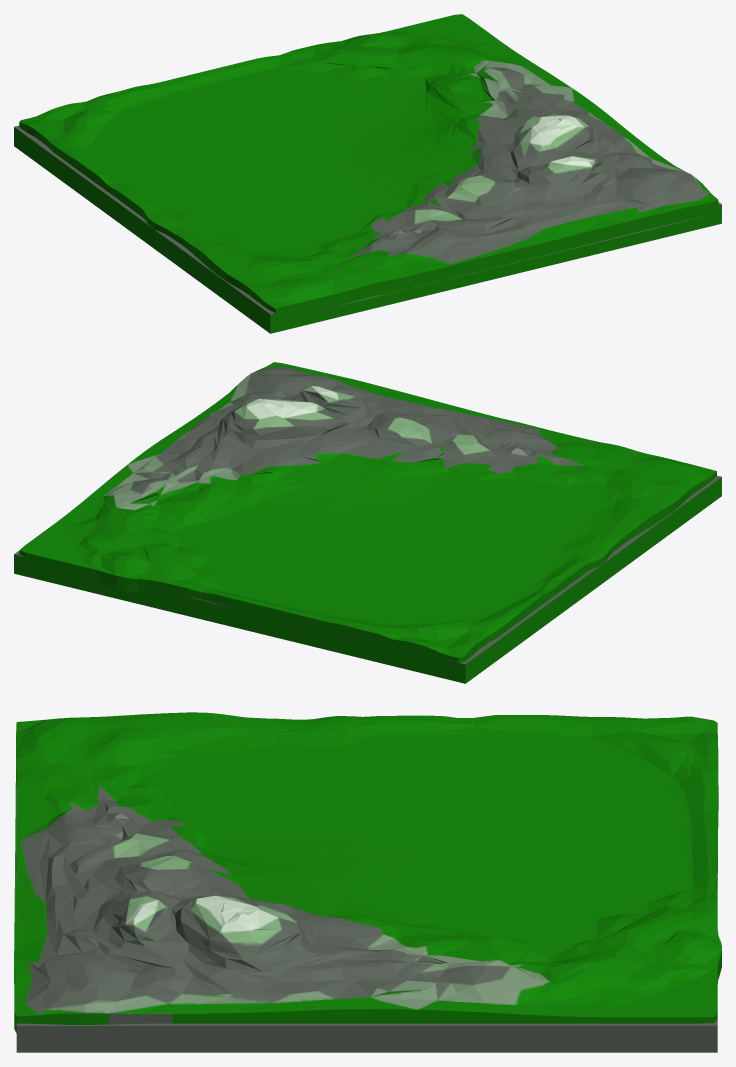
The model's file is Landscape_try1.fbx.
3 renders of one model, top to bottom at view 1: azimuth 30°, elevation 25°; view 2: azimuth 150°, elevation 25°; view 3: azimuth 270°, elevation 25°, orthographic. The views are drawn at different scales.
Parts seen in each view (by area): view 1: landscape; view 2: landscape; view 3: landscape.
Part boxes in pixels (x1,y1,x2,y2): landscape: (14, 14, 721, 333); landscape: (14, 362, 721, 683); landscape: (14, 712, 721, 1052).
Size of the model in its own units: 24.4 by 3.26 by 24.23.
1 material, 1 textured.
